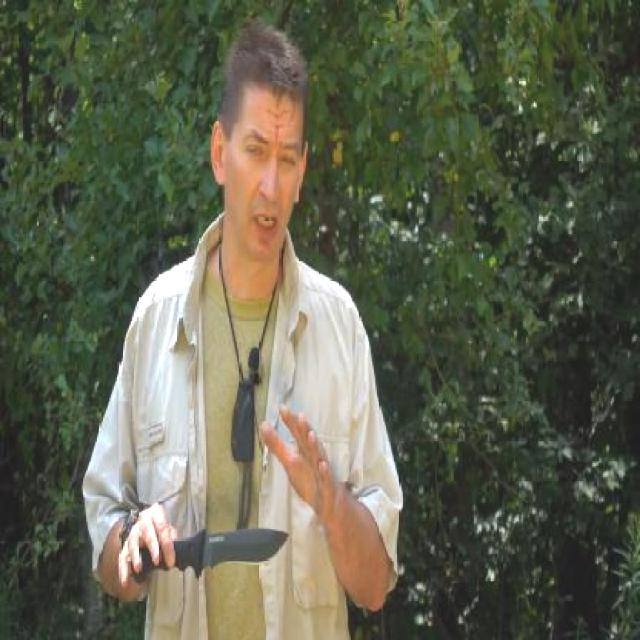knife: (115, 502, 292, 598)
